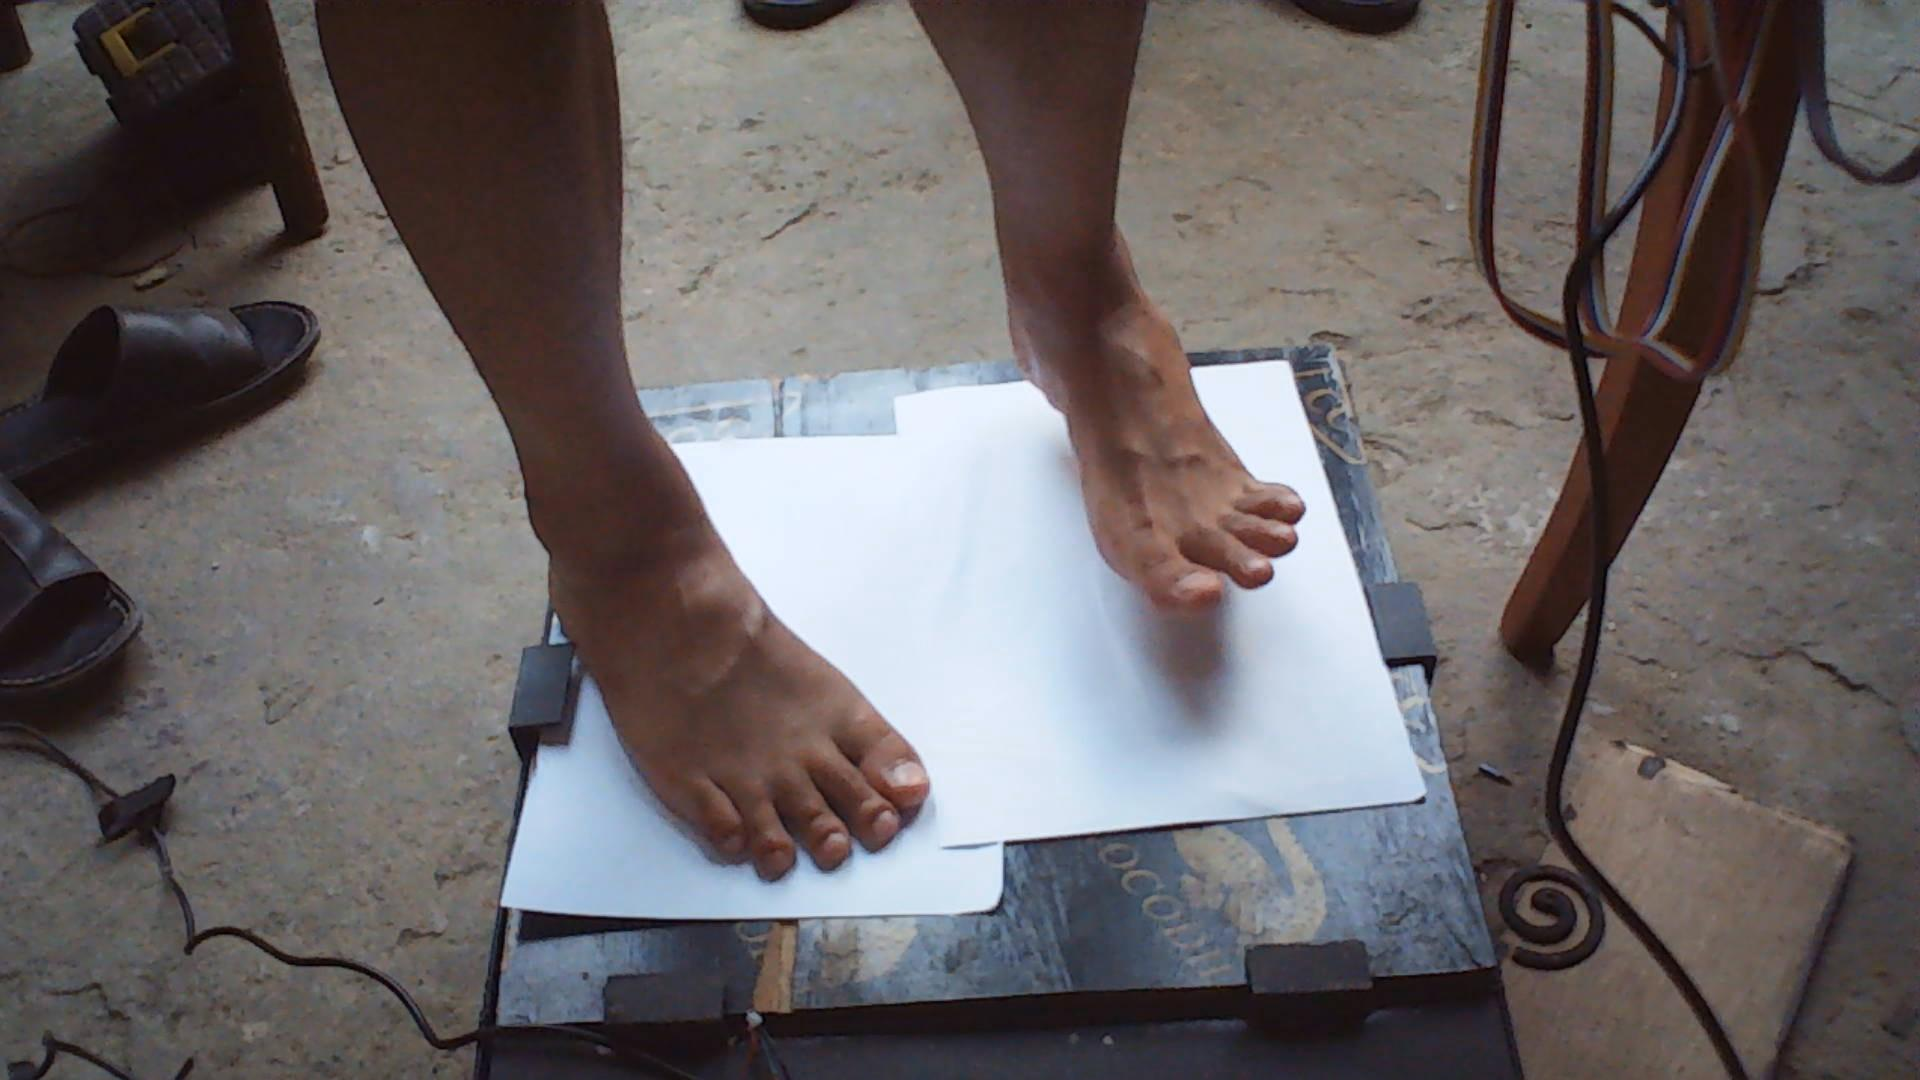Bare_feet: (553, 506, 955, 891), (1010, 324, 1315, 661)
